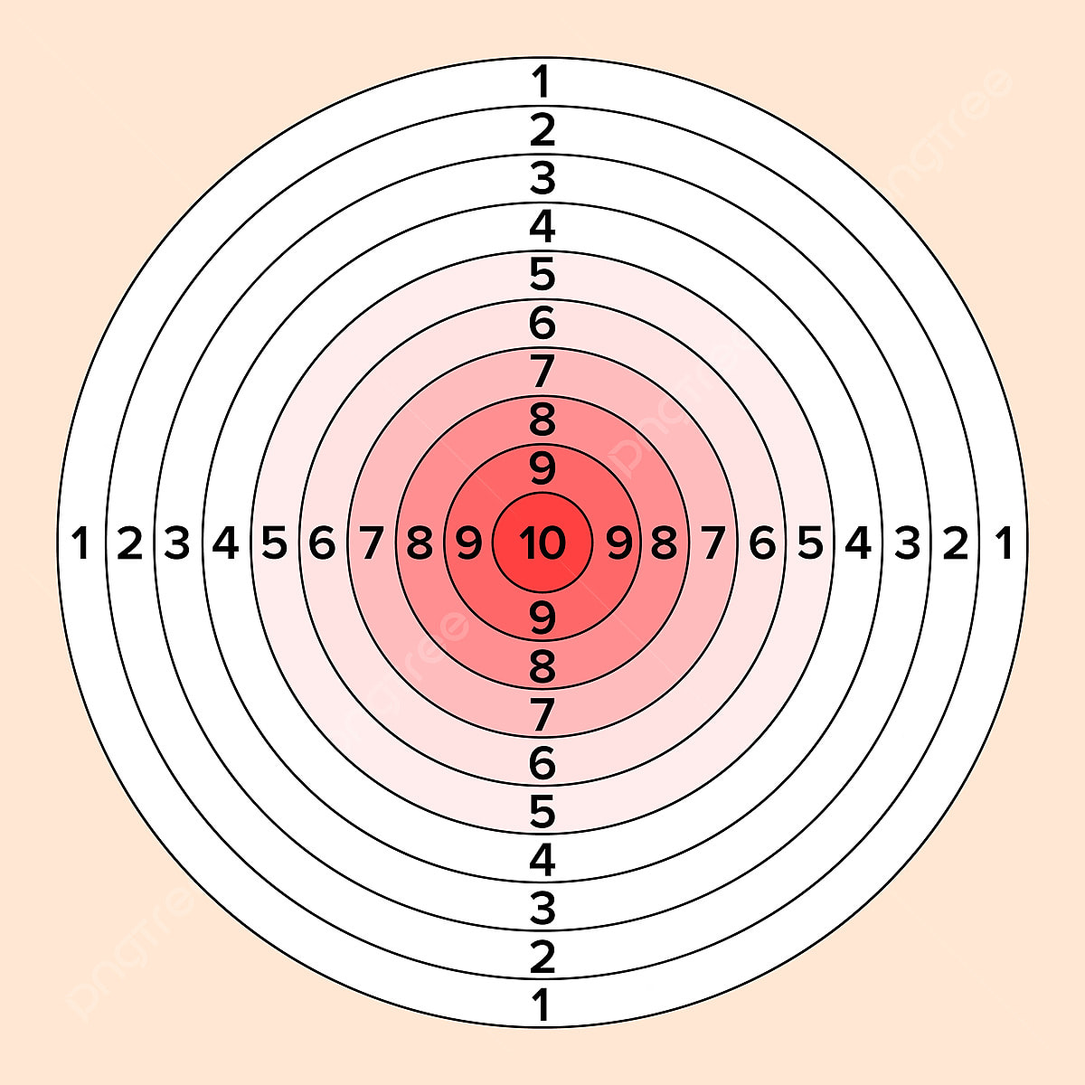target: (48, 45, 1055, 1055)
